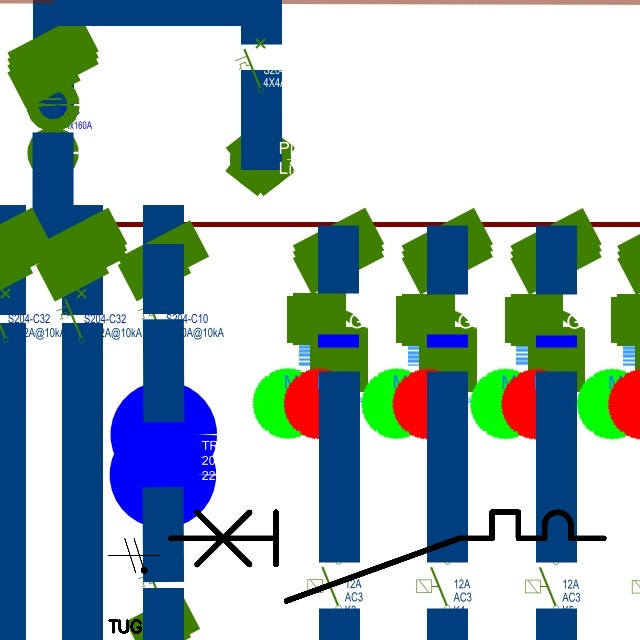interruptor_termomagnetico: (159, 501, 614, 612)
